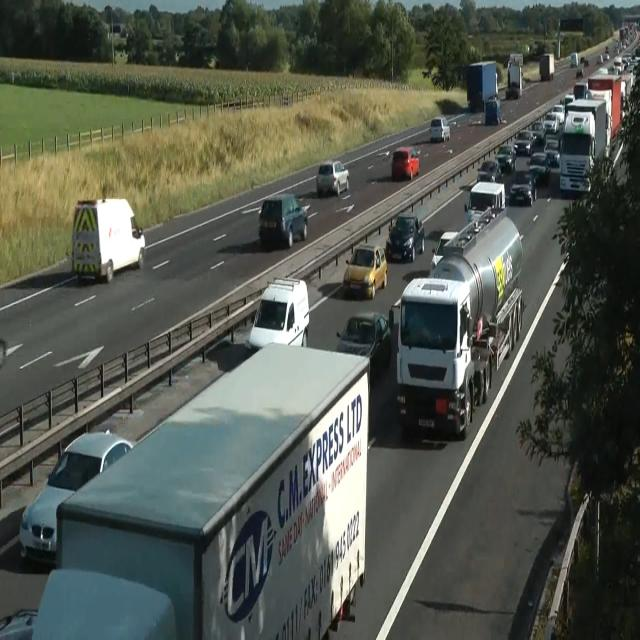bus: (19, 429, 136, 564), (335, 311, 391, 386), (431, 217, 489, 270), (343, 244, 387, 298), (386, 212, 424, 262), (0, 607, 38, 639), (431, 231, 458, 270), (392, 146, 420, 180), (476, 159, 501, 183), (494, 145, 516, 171), (430, 116, 450, 142), (514, 130, 534, 154), (544, 139, 560, 166), (530, 121, 546, 144), (542, 112, 558, 133), (551, 104, 565, 124), (576, 65, 584, 77)
car: (388, 211, 524, 439)
jeep: (390, 275, 478, 438), (248, 276, 310, 350), (258, 192, 308, 248), (464, 180, 506, 220), (315, 160, 349, 196), (509, 170, 537, 206), (528, 151, 550, 183)
minibus: (33, 341, 371, 639), (71, 196, 145, 284), (559, 98, 608, 196), (466, 61, 498, 111), (505, 52, 523, 100), (108, 23, 128, 46), (539, 52, 554, 81), (570, 52, 585, 78)
